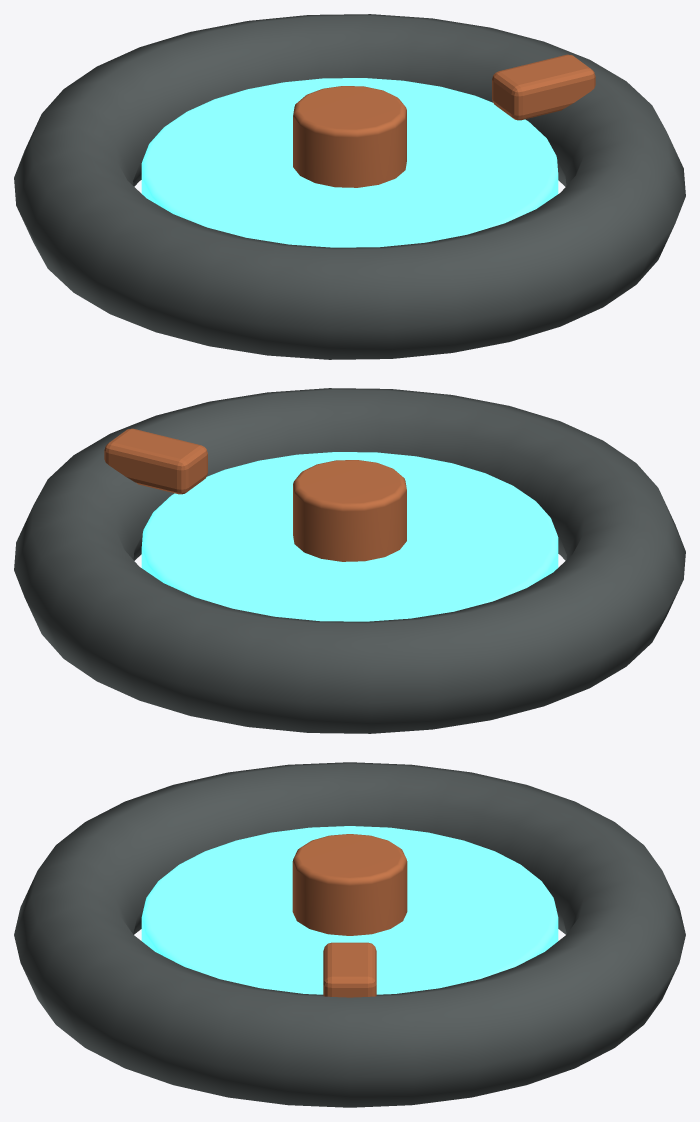
File: kestrel_relay_disc.glb
3 views of the same model, one above another, from view 1: azimuth 30°, elevation 25°; view 2: azimuth 150°, elevation 25°; view 3: azimuth 270°, elevation 25° (orthographic).
Parts seen in each view (by area): view 1: Disc armature, Relay charge, Hazard axle, Rotation index; view 2: Disc armature, Relay charge, Hazard axle, Rotation index; view 3: Disc armature, Relay charge, Hazard axle, Rotation index.
Boxes of the visible parts, x1,y1,x2,y2 form: Disc armature: (14,14,685,359); Relay charge: (141,78,558,247); Hazard axle: (293,86,406,187); Rotation index: (492,54,595,120); Disc armature: (14,388,685,733); Relay charge: (141,452,558,621); Hazard axle: (293,460,406,561); Rotation index: (104,428,207,494); Disc armature: (14,762,685,1107); Relay charge: (141,826,558,994); Hazard axle: (292,834,407,935); Rotation index: (323,942,376,997).
Size of the model in its own units: 0.316 by 0.069 by 0.316.
